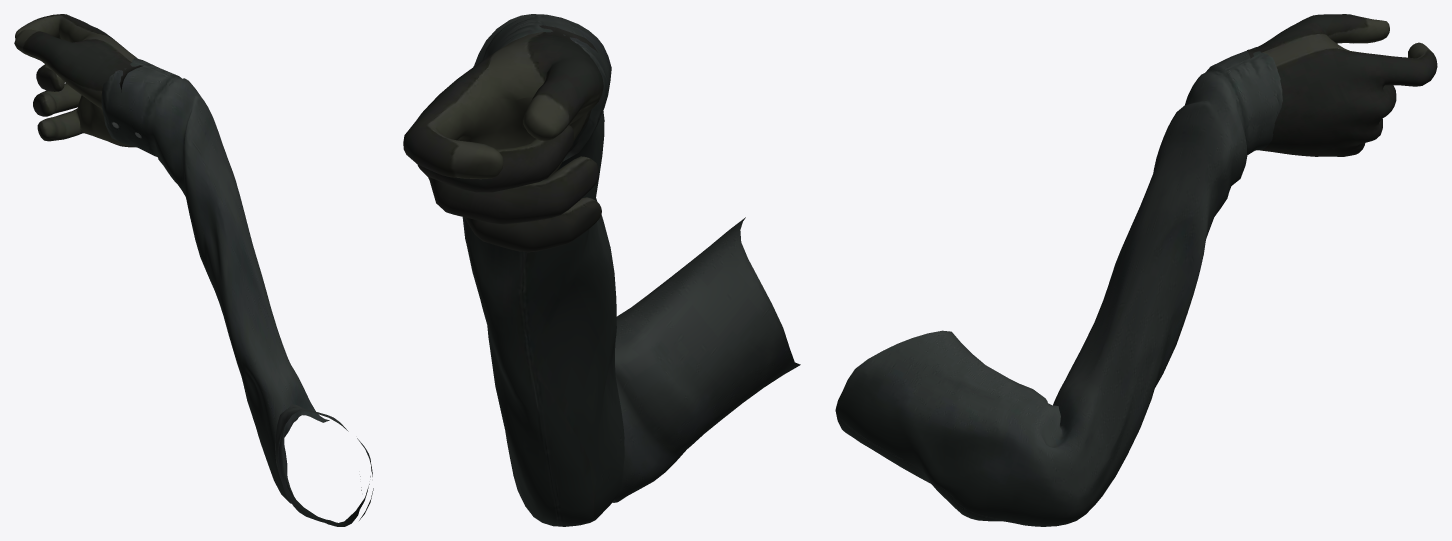
Rendered from trigger-hand.glb.
3 renders of one model, left to right at view 1: azimuth 30°, elevation 25°; view 2: azimuth 150°, elevation 25°; view 3: azimuth 270°, elevation 25°, orthographic. The views are drawn at different scales.
Visible parts, largest first — view 1: RightArmMesh; view 2: RightArmMesh; view 3: RightArmMesh.
Boxes of the visible parts, <box> form: RightArmMesh: <box>14,14,373,526</box>; RightArmMesh: <box>403,14,800,526</box>; RightArmMesh: <box>835,14,1437,526</box>.
Bounding box in the file's own units: 0.3782 × 0.8409 × 1.04.
Materials: 2 (2 with a texture image).
